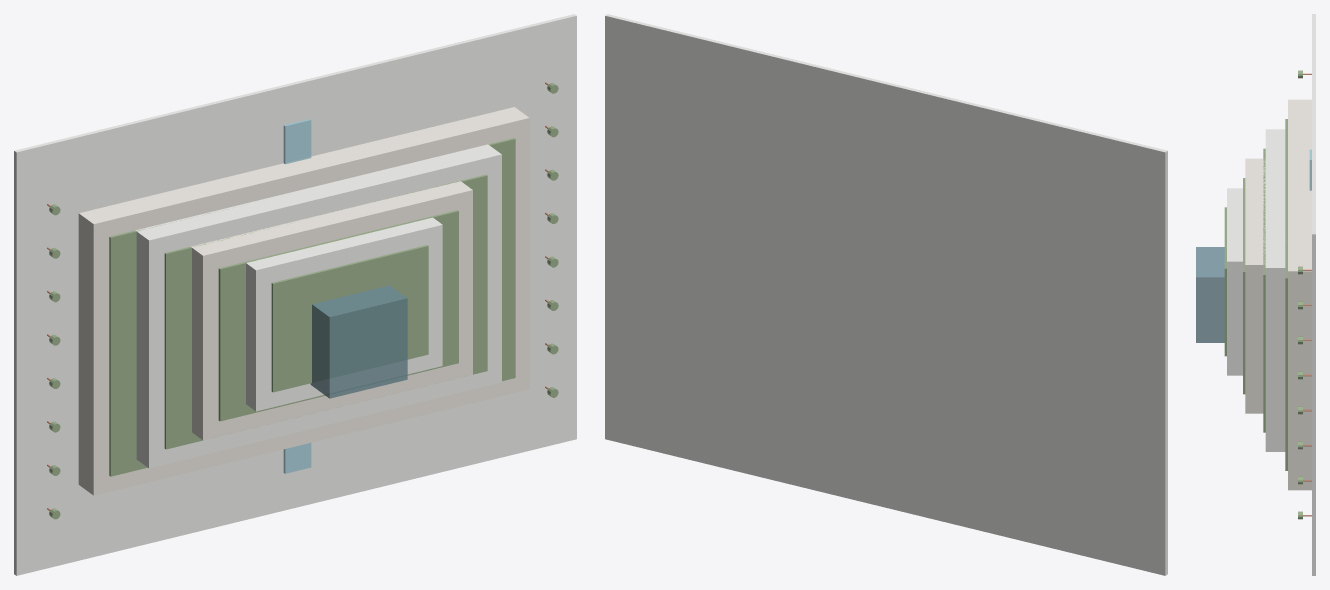
File: oasis_terraces.glb
The picture shows the model from 3 angles, left to right: view 1: azimuth 30°, elevation 25°; view 2: azimuth 150°, elevation 25°; view 3: azimuth 270°, elevation 25°; orthographic projection. The views are drawn at different scales.
Parts seen in each view (by area): view 1: site_base, terrace_level_0, terrace_level_1, terrace_level_2, garden_level_3, terrace_level_3, garden_level_0, central_atrium, garden_level_1, garden_level_2, water_axis; view 2: site_base; view 3: terrace_level_0, terrace_level_1, terrace_level_2, terrace_level_3, central_atrium, site_base, garden_level_0, garden_level_1, garden_level_2, garden_level_3.
Boxes of the visible parts, box(x1,y1,x2,y2) form: site_base: box(14, 14, 576, 575); terrace_level_0: box(78, 107, 529, 495); terrace_level_1: box(135, 144, 501, 468); terrace_level_2: box(191, 181, 472, 440); garden_level_3: box(271, 245, 428, 392); terrace_level_3: box(246, 217, 442, 411); garden_level_0: box(109, 138, 515, 476); central_atrium: box(310, 285, 407, 398); garden_level_1: box(164, 174, 487, 449); garden_level_2: box(218, 210, 458, 421); water_axis: box(283, 119, 311, 473); site_base: box(605, 14, 1167, 575); terrace_level_0: box(1288, 99, 1311, 490); terrace_level_1: box(1265, 129, 1285, 451); terrace_level_2: box(1245, 158, 1265, 413); terrace_level_3: box(1227, 188, 1242, 375); central_atrium: box(1196, 247, 1224, 342); site_base: box(1312, 14, 1315, 575); garden_level_0: box(1285, 119, 1287, 470); garden_level_1: box(1263, 148, 1265, 432); garden_level_2: box(1243, 178, 1245, 394); garden_level_3: box(1224, 207, 1226, 356).
Size of the model in its own units: 108 by 78 by 24.8.
